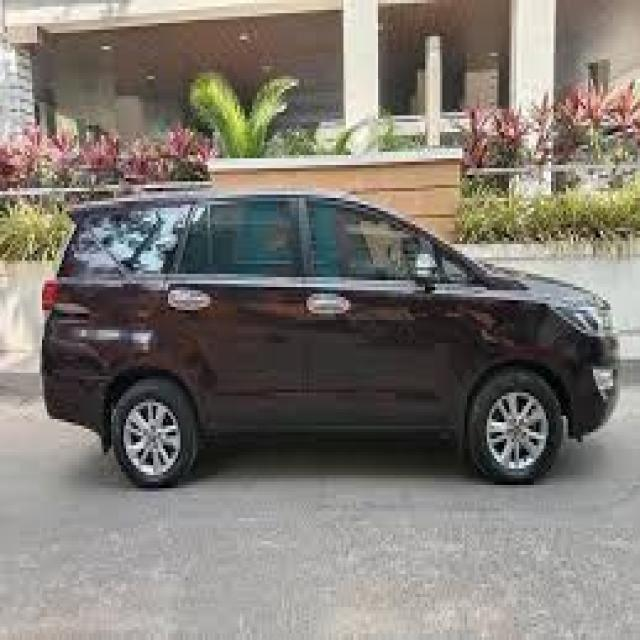light_vehicle: (41, 190, 621, 489)
